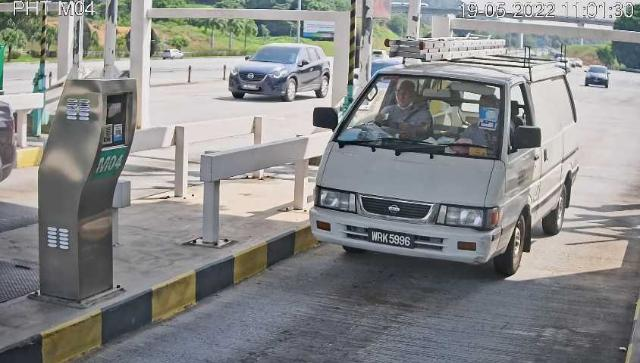License_Plate: (369, 228, 416, 252)
van: (311, 37, 580, 277)
